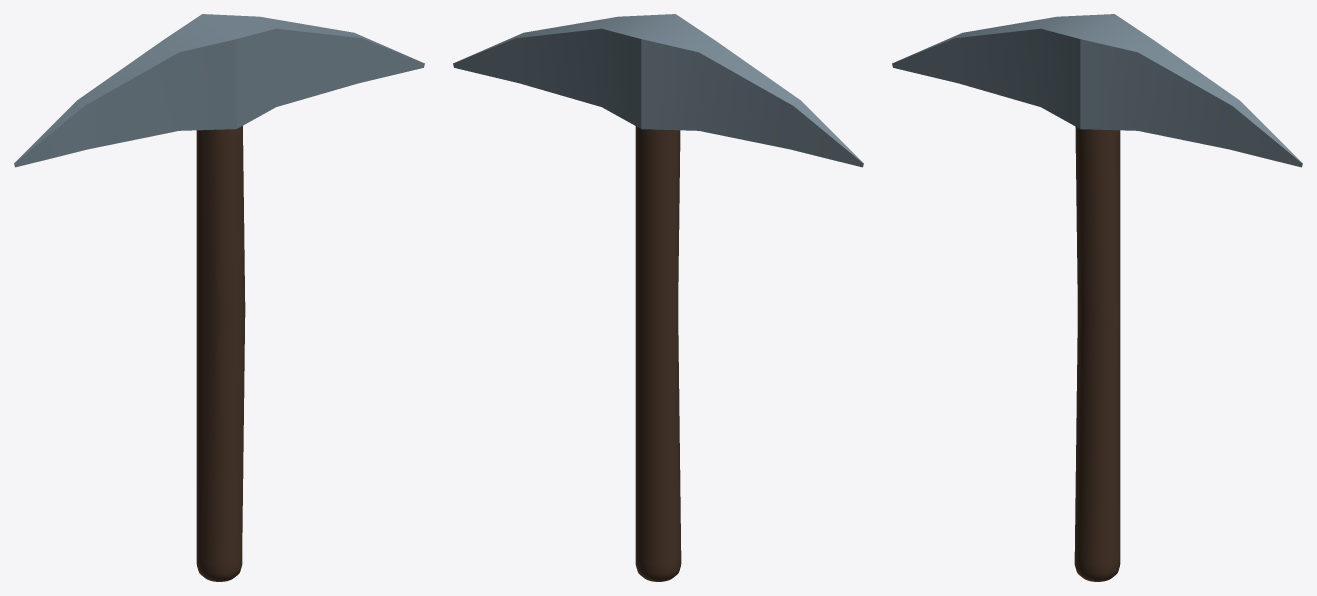
Rendered from pickaxe.fbx.
3 views of the same model, side by side, from view 1: azimuth 30°, elevation 25°; view 2: azimuth 150°, elevation 25°; view 3: azimuth 330°, elevation 25° (orthographic).
Parts seen in each view (by area): view 1: pickaxe; view 2: pickaxe; view 3: pickaxe.
Part boxes in pixels (x1,y1,x2,y2): pickaxe: (14,14,424,581); pickaxe: (453,14,863,581); pickaxe: (892,14,1302,581).
Size of the model in its own units: 0.4727 by 0.0684 by 0.6055.
